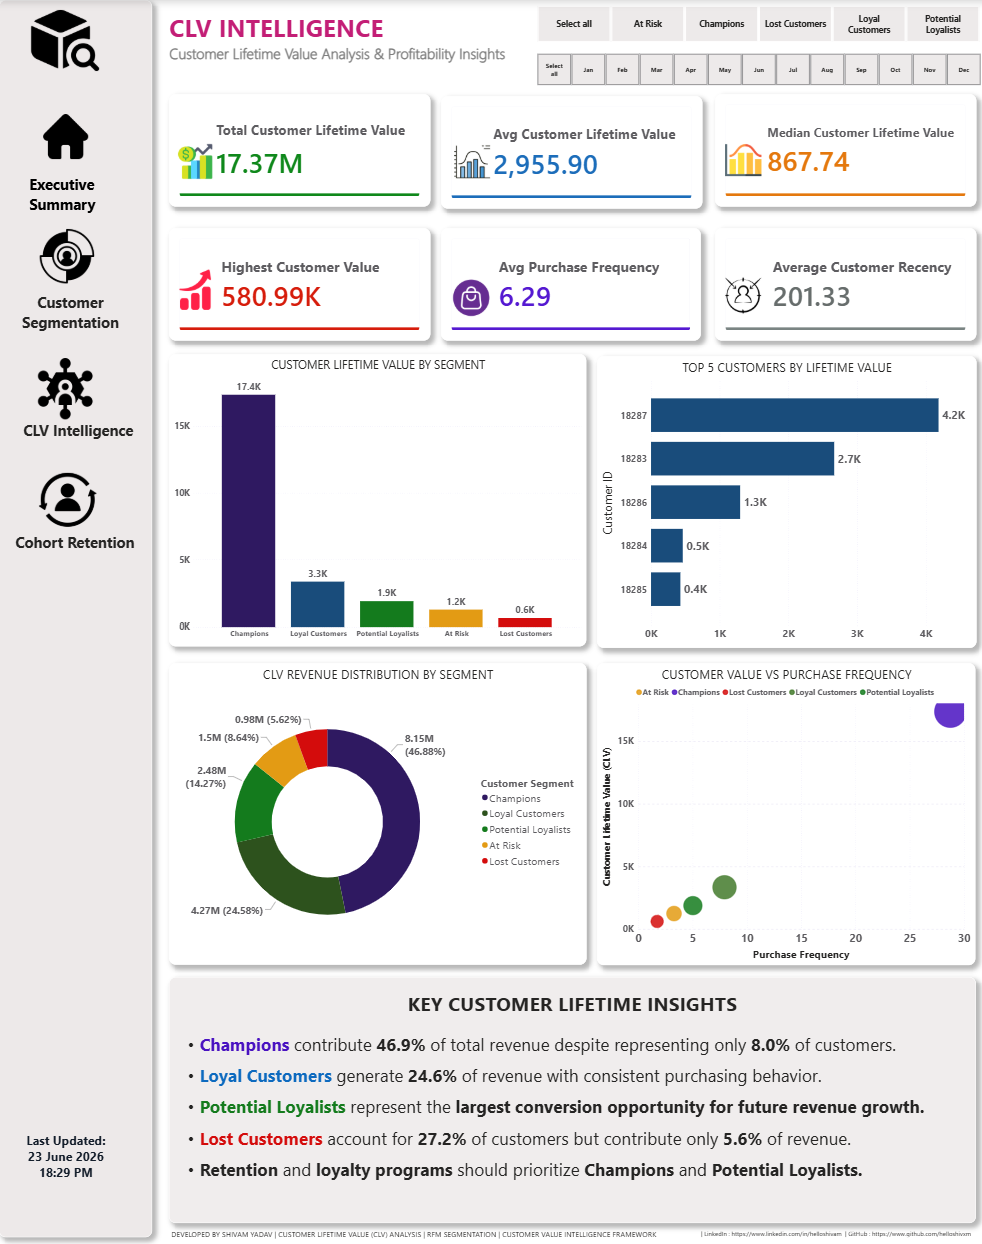

The dashboard page shown, as its layout file describes it:
{"tool":"powerbi","page":{"name":"CLV Intelligence","canvas":[2170,2730],"ordinal":2},"visuals":[{"type":"textbox","box":[0,0,334.7,2700],"z":1000},{"type":"image","box":[88,249.9,116.2,98.6],"z":2000},{"type":"image","box":[73.9,496.3,147.8,123.2],"z":3000},{"type":"image","box":[73.9,781.4,140.8,133.8],"z":4000},{"type":"image","box":[81,1027.8,133.8,130.2],"z":5000},{"type":"textbox","box":[62,374,190,122],"z":7000},{"type":"textbox","box":[45.6,635.1,224.6,114],"z":8000},{"type":"textbox","box":[46,914,266,78],"z":9000},{"type":"textbox","box":[32,1158,280,64],"z":10000},{"type":"textbox","box":[40.3,2463.9,213.9,140.3],"z":12000},{"type":"cardVisual","fields":{"Data":["cohort_analysis.Total CLV Revenue"]},"box":[371.1,206.9,570.9,246.2],"z":13000},{"type":"cardVisual","fields":{"Data":["cohort_analysis.Average Recency"]},"box":[1562.8,496,570.9,246.2],"z":14000},{"type":"cardVisual","fields":{"Data":["cohort_analysis.Average CLV"]},"box":[966.9,210.5,570.9,246.2],"z":15000},{"type":"cardVisual","fields":{"Data":["cohort_analysis.Avg Purchase Frequency"]},"box":[966.9,496,567.3,246.2],"z":16000},{"type":"cardVisual","fields":{"Data":["cohort_analysis.Highest Customer CLV"]},"box":[371.1,496,570.9,246.2],"z":17000},{"type":"cardVisual","fields":{"Data":["cohort_analysis.Median CLV"]},"box":[1562.8,206.9,570.9,246.2],"z":18000},{"type":"image","box":[988.3,605,88.3,86.7],"z":19000},{"type":"image","box":[383.3,586.7,88.3,95],"z":20000},{"type":"image","box":[384.1,300,88.6,102.3],"z":21000},{"type":"image","box":[993.2,300,84.1,104.5],"z":22000},{"type":"image","box":[1579.5,311.4,88.6,79.5],"z":23000},{"type":"image","box":[1579.6,598,87.8,93.9],"z":24000},{"type":"clusteredColumnChart","title":"CUSTOMER LIFETIME VALUE BY SEGMENT","fields":{"Category":["customer_segments.Segment New"],"Y":["customer_segments.Avg CLV"]},"box":[370.5,775,911.4,636.4],"z":25000},{"type":"textbox","box":[368.9,15.6,755.6,135.6],"z":26000},{"type":"image","box":[53.5,0,178.4,171.3],"z":27000},{"type":"clusteredBarChart","title":"TOP 5 CUSTOMERS BY LIFETIME VALUE","fields":{"Category":["customer_segments.Customer ID"],"Y":["Sum(customer_segments.Monetary_Value)"]},"box":[1304.4,775.6,828.9,635.6],"z":28000},{"type":"donutChart","title":"CLV REVENUE DISTRIBUTION BY SEGMENT","fields":{"Category":["customer_segments.Segment New"],"Y":["Sum(customer_segments.Monetary_Value)"]},"box":[370.6,1445.1,911.8,658.8],"z":29000},{"type":"scatterChart","title":"CUSTOMER VALUE VS PURCHASE FREQUENCY","fields":{"X":["Avg(customer_segments.Purchase_Frequency)"],"Y":["Avg(customer_segments.Monetary_Value)"],"Series":["customer_segments.Segment New"],"Size":["Sum(customer_segments.Monetary_Value)1"]},"box":[1306.7,1446.7,826.7,660],"z":30000},{"type":"textbox","box":[370.6,2133.3,1762.7,537.3],"z":31000},{"type":"slicer","fields":{"Values":["customer_segments.Segment New"]},"box":[1144.4,0,1026.7,104.4],"z":32000},{"type":"slicer","fields":{"Values":["customer_clv_ml_v2.Month Short"]},"box":[1144.4,104.4,1028.9,93.3],"z":33000},{"type":"textbox","box":[371.4,2677.6,1132.7,53.1],"z":34000},{"type":"actionButton","title":"| LinkedIn : https://www.linkedin.com/in/helloshivam","box":[1531.3,2683.3,314.4,25.6],"z":35000},{"type":"actionButton","title":"| GitHub : https://www.github.com/helloshivxm","box":[1849.1,2683.3,283.3,25.6],"z":36000}]}

Visuals, with their boxes in screenshot pixels (x1, y1, x2, y2), scaled from the page's 2170x2730 canvas onto the 982x1244 screenshot:
textbox: {"left": 0, "top": 0, "right": 151, "bottom": 1230}
image: {"left": 40, "top": 114, "right": 92, "bottom": 159}
image: {"left": 33, "top": 226, "right": 100, "bottom": 282}
image: {"left": 33, "top": 356, "right": 97, "bottom": 417}
image: {"left": 37, "top": 468, "right": 97, "bottom": 528}
textbox: {"left": 28, "top": 170, "right": 114, "bottom": 226}
textbox: {"left": 21, "top": 289, "right": 122, "bottom": 341}
textbox: {"left": 21, "top": 416, "right": 141, "bottom": 452}
textbox: {"left": 14, "top": 528, "right": 141, "bottom": 557}
textbox: {"left": 18, "top": 1123, "right": 115, "bottom": 1187}
cardVisual - cohort_analysis.Total CLV Revenue: {"left": 168, "top": 94, "right": 426, "bottom": 206}
cardVisual - cohort_analysis.Average Recency: {"left": 707, "top": 226, "right": 966, "bottom": 338}
cardVisual - cohort_analysis.Average CLV: {"left": 438, "top": 96, "right": 696, "bottom": 208}
cardVisual - cohort_analysis.Avg Purchase Frequency: {"left": 438, "top": 226, "right": 694, "bottom": 338}
cardVisual - cohort_analysis.Highest Customer CLV: {"left": 168, "top": 226, "right": 426, "bottom": 338}
cardVisual - cohort_analysis.Median CLV: {"left": 707, "top": 94, "right": 966, "bottom": 206}
image: {"left": 447, "top": 276, "right": 487, "bottom": 315}
image: {"left": 173, "top": 267, "right": 213, "bottom": 311}
image: {"left": 174, "top": 137, "right": 214, "bottom": 183}
image: {"left": 449, "top": 137, "right": 488, "bottom": 184}
image: {"left": 715, "top": 142, "right": 755, "bottom": 178}
image: {"left": 715, "top": 272, "right": 755, "bottom": 315}
"CUSTOMER LIFETIME VALUE BY SEGMENT" clusteredColumnChart: {"left": 168, "top": 353, "right": 580, "bottom": 643}
textbox: {"left": 167, "top": 7, "right": 509, "bottom": 69}
image: {"left": 24, "top": 0, "right": 105, "bottom": 78}
"TOP 5 CUSTOMERS BY LIFETIME VALUE" clusteredBarChart: {"left": 590, "top": 353, "right": 965, "bottom": 643}
"CLV REVENUE DISTRIBUTION BY SEGMENT" donutChart: {"left": 168, "top": 658, "right": 580, "bottom": 959}
"CUSTOMER VALUE VS PURCHASE FREQUENCY" scatterChart: {"left": 591, "top": 659, "right": 965, "bottom": 960}
textbox: {"left": 168, "top": 972, "right": 965, "bottom": 1217}
slicer - customer_segments.Segment New: {"left": 518, "top": 0, "right": 981, "bottom": 48}
slicer - customer_clv_ml_v2.Month Short: {"left": 518, "top": 48, "right": 981, "bottom": 90}
textbox: {"left": 168, "top": 1220, "right": 681, "bottom": 1243}
"| LinkedIn : https://www.linkedin.com/in/helloshivam" actionButton: {"left": 693, "top": 1223, "right": 835, "bottom": 1234}
"| GitHub : https://www.github.com/helloshivxm" actionButton: {"left": 837, "top": 1223, "right": 965, "bottom": 1234}
